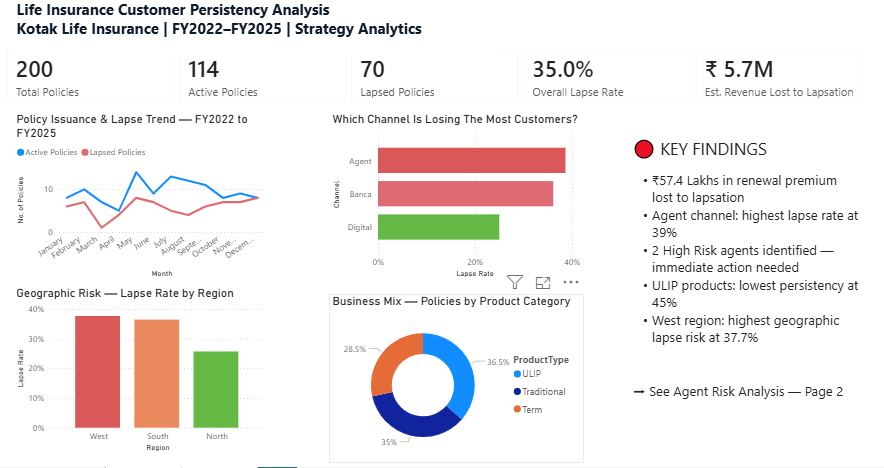

The dashboard page shown, as its layout file describes it:
{"tool":"powerbi","page":{"name":"Page 1","canvas":[1280,720],"ordinal":0},"visuals":[{"type":"cardVisual","fields":{"Data":["_Measures.Total Policies","_Measures.Active Policies","_Measures.Lapsed Policies","_Measures.Lapse Rate","_Measures.Revenue Lost to Lapsation"]},"box":[0,101.4,1260,100],"z":0},{"type":"lineChart","title":"Policy Issuance & Lapse Trend — FY2022 to FY2025","fields":{"Category":["Policies.IssueDate.Variation.Date Hierarchy.Month"],"Y":["_Measures.Active Policies","_Measures.Lapsed Policies"]},"box":[25.7,204.3,364.3,241.4],"z":1000},{"type":"clusteredBarChart","title":"Which Channel Is Losing The Most Customers?","fields":{"Category":["Policies.Channel"],"Y":["_Measures.Lapse Rate"]},"box":[477.1,204.3,364.3,241.4],"z":2000},{"type":"donutChart","title":"Business Mix — Policies by Product Category","fields":{"Category":["Policies.ProductType"],"Y":["_Measures.Total Policies"]},"box":[477.1,464.3,364.3,241.4],"z":3000},{"type":"clusteredColumnChart","title":"Geographic Risk — Lapse Rate by Region","fields":{"Category":["Customers.Region"],"Y":["_Measures.Lapse Rate"]},"box":[25.7,452.9,364.3,241.4],"z":4000},{"type":"textbox","box":[905.7,234.3,334.3,437.1],"z":5000},{"type":"textbox","box":[25.7,37.1,695.7,85.7],"z":6000}]}

Visuals, with their boxes on the page's 1280x720 design canvas (x1, y1, x2, y2). These are canvas units, not pixel positions in the 884x468 screenshot, which may show the page scaled, cropped or inside an application window:
cardVisual - _Measures.Total Policies x _Measures.Active Policies: [x1=0, y1=101, x2=1260, y2=201]
"Policy Issuance & Lapse Trend — FY2022 to FY2025" lineChart: [x1=26, y1=204, x2=390, y2=446]
"Which Channel Is Losing The Most Customers?" clusteredBarChart: [x1=477, y1=204, x2=841, y2=446]
"Business Mix — Policies by Product Category" donutChart: [x1=477, y1=464, x2=841, y2=706]
"Geographic Risk — Lapse Rate by Region" clusteredColumnChart: [x1=26, y1=453, x2=390, y2=694]
textbox: [x1=906, y1=234, x2=1240, y2=671]
textbox: [x1=26, y1=37, x2=721, y2=123]
